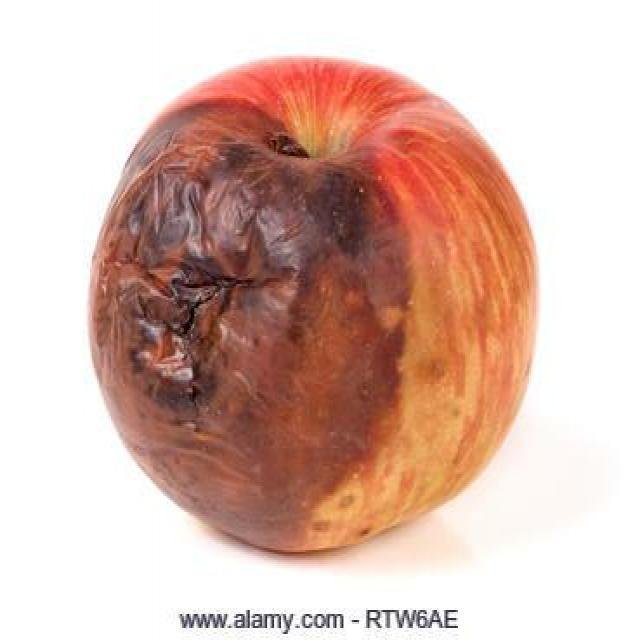Apple: (95, 60, 518, 552)
